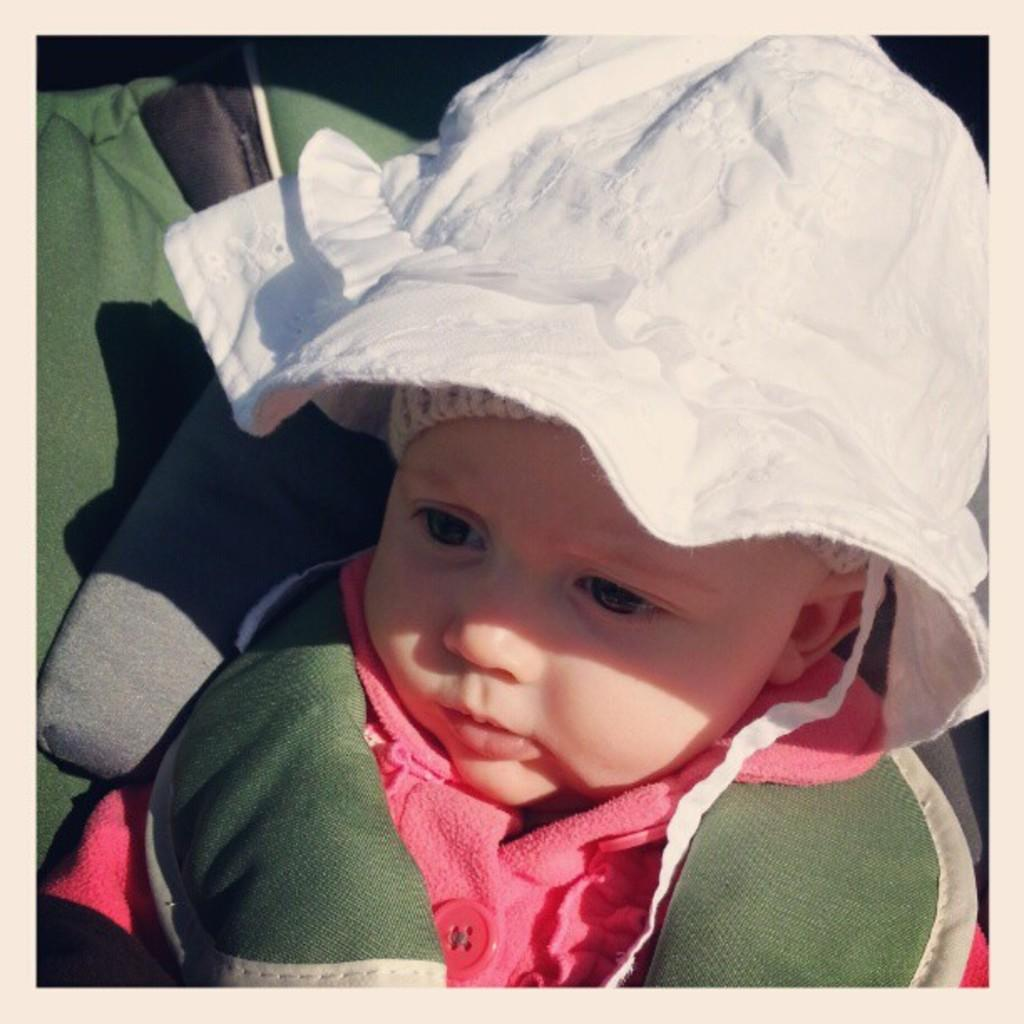Hat: (164, 33, 986, 982)
